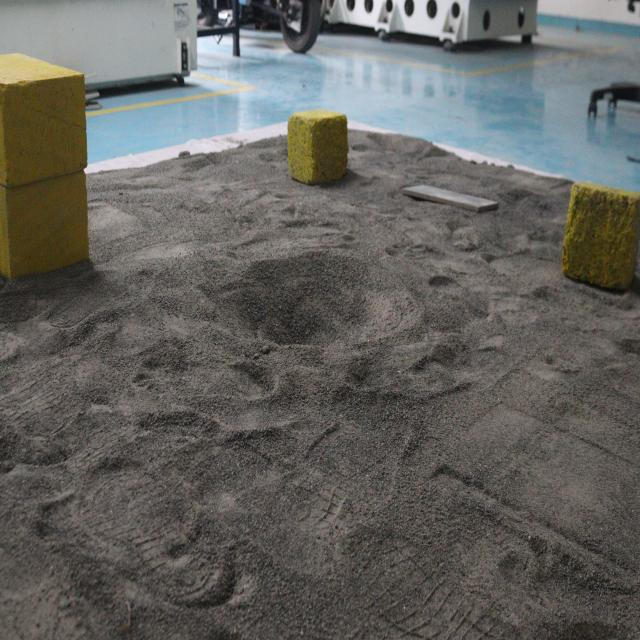box: (0, 46, 95, 282), (557, 183, 640, 294), (285, 109, 351, 185)
crater: (214, 245, 423, 366)
